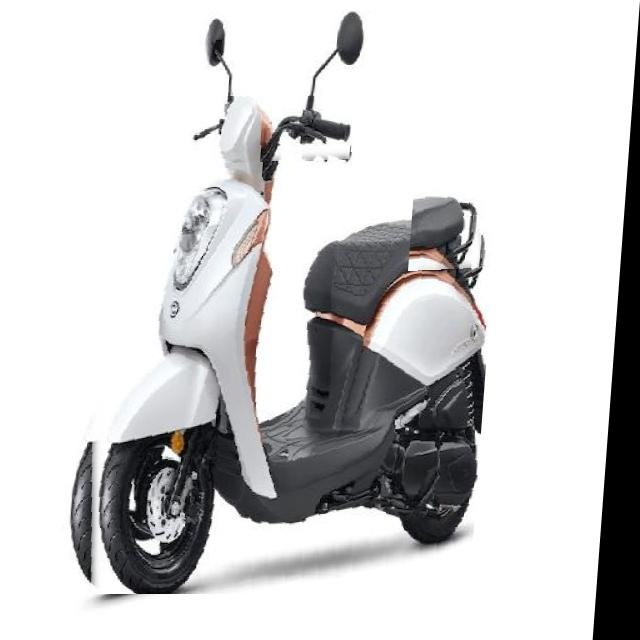All: (66, 84, 508, 594)
Head: (187, 96, 355, 164)
Tail: (412, 184, 489, 271)
